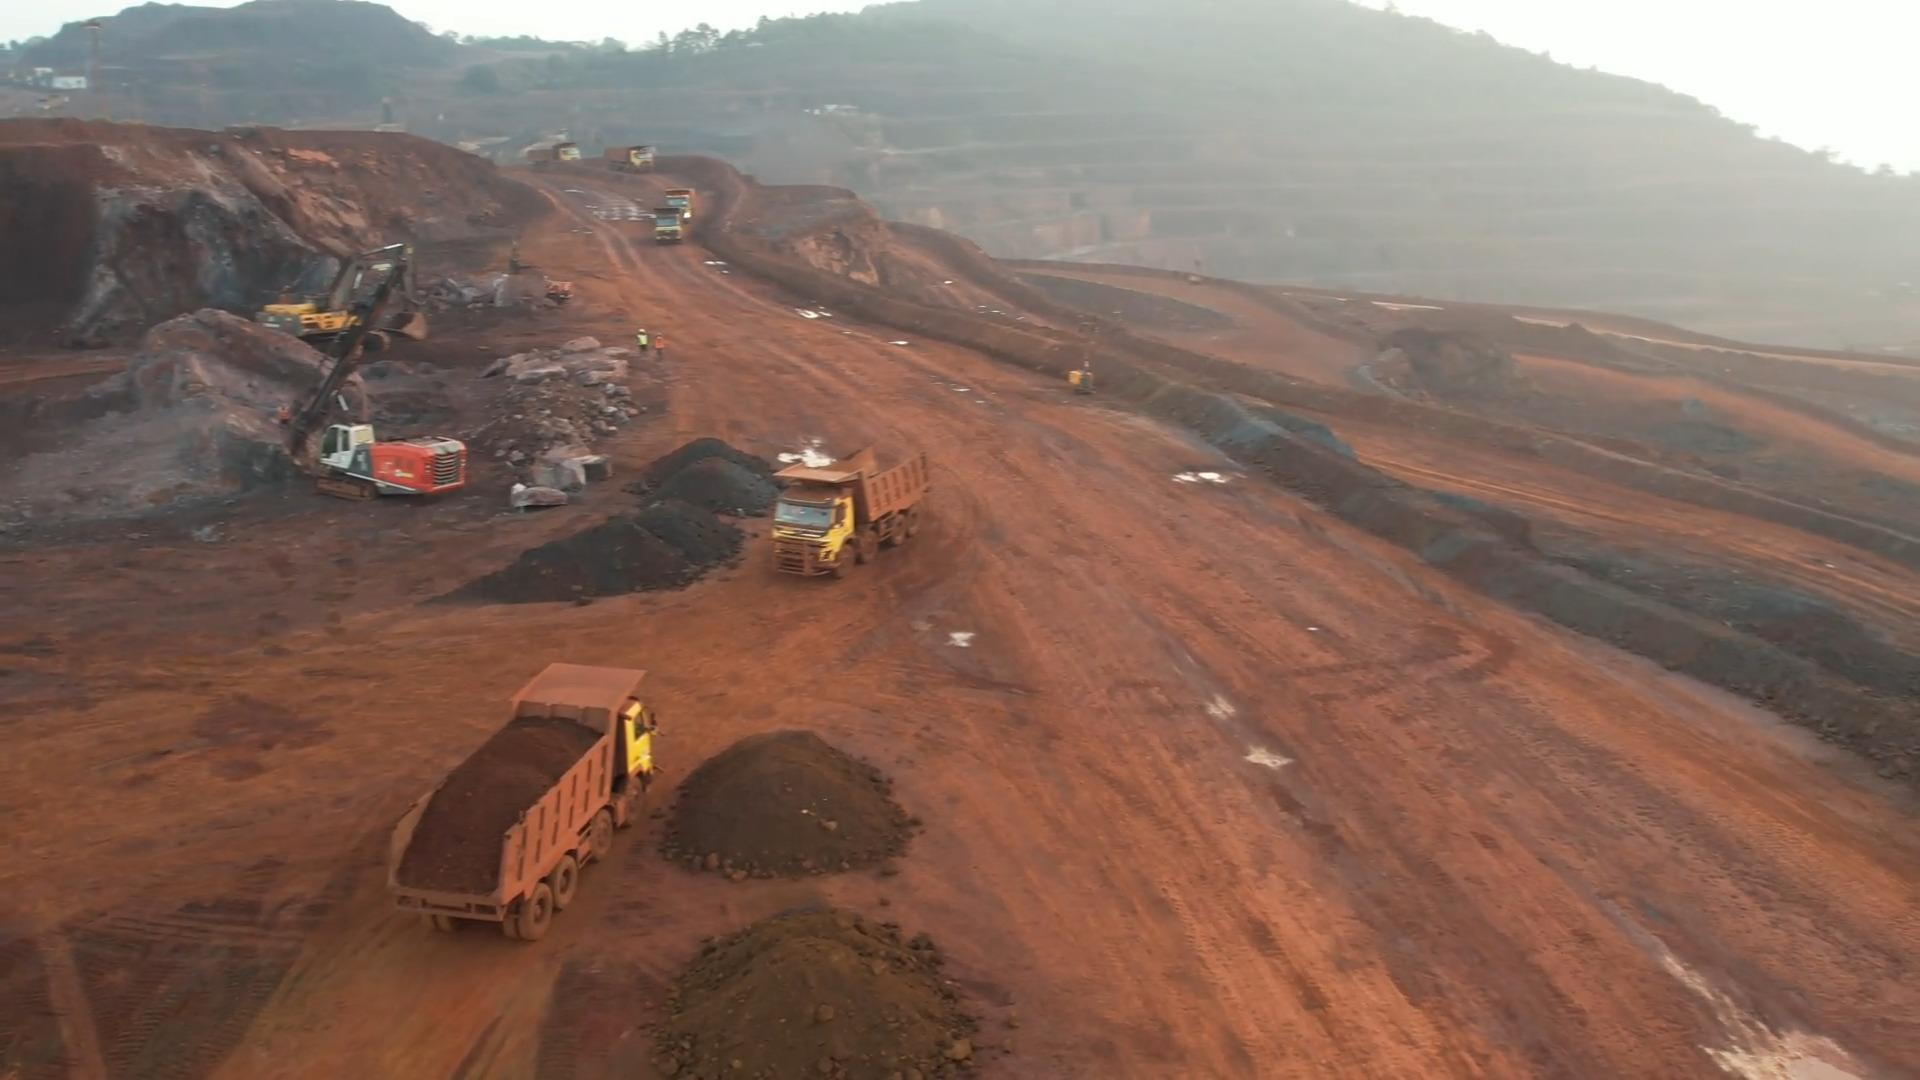excavator: (258, 248, 422, 342)
